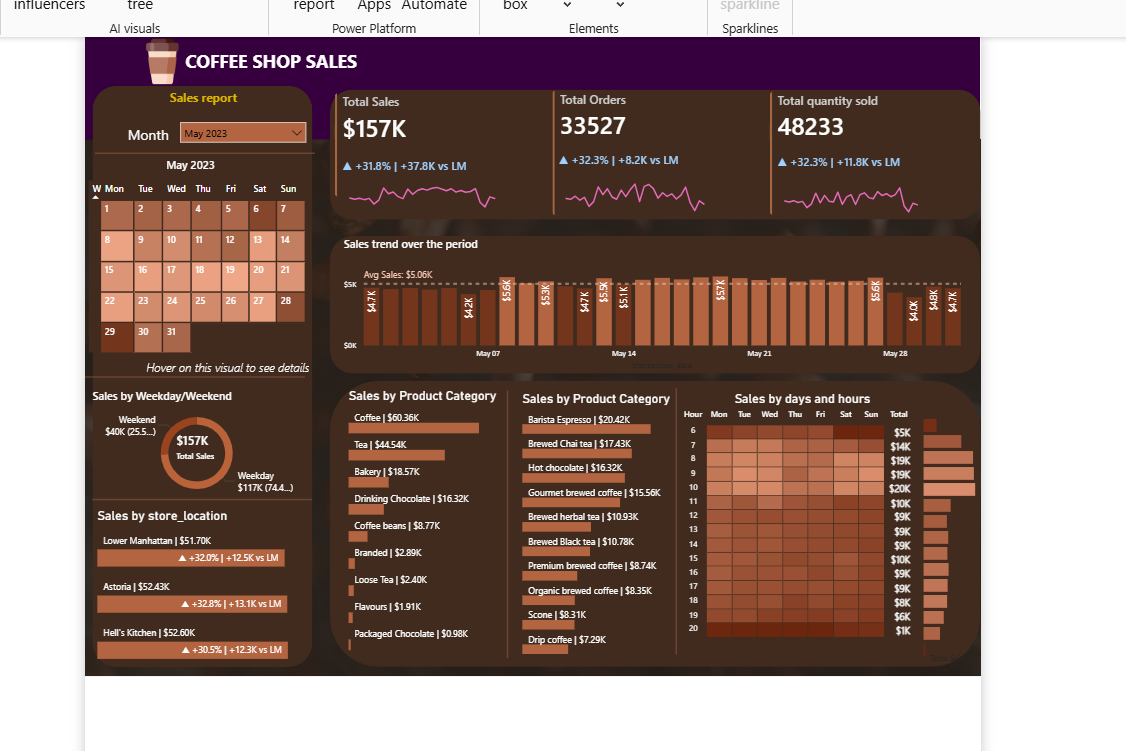

Layout of this report page (visuals, bound fields, positions):
{"tool":"powerbi","page":{"name":"Coffe shop sales","canvas":[1200,1000],"ordinal":0},"visuals":[{"type":"shape","box":[0,0,1199.7,137.4],"z":0},{"type":"shape","box":[328,70.4,872.2,174.7],"z":1000},{"type":"lineChart","fields":{"Category":["Date Table.Date.Variation.Date Hierarchy.Year","Date Table.Date.Variation.Date Hierarchy.Quarter","Date Table.Date.Variation.Date Hierarchy.Month","Date Table.Date.Variation.Date Hierarchy.Day"],"Y":["Coffee Shop Sales.Total Quantity"]},"box":[922.5,157.1,207.8,87.1],"z":1000,"group":"g4"},{"type":"lineChart","fields":{"Category":["Date Table.Date.Variation.Date Hierarchy.Year","Date Table.Date.Variation.Date Hierarchy.Quarter","Date Table.Date.Variation.Date Hierarchy.Month","Date Table.Date.Variation.Date Hierarchy.Day"],"Y":["Coffee Shop Sales.Total Sales"]},"box":[341.2,161.9,224.2,86.2],"z":1000,"group":"g1"},{"type":"shape","box":[10.1,65.3,294.9,779.2],"z":2000},{"type":"lineChart","fields":{"Category":["Date Table.Date.Variation.Date Hierarchy.Year","Date Table.Date.Variation.Date Hierarchy.Quarter","Date Table.Date.Variation.Date Hierarchy.Month","Date Table.Date.Variation.Date Hierarchy.Day"],"Y":["Coffee Shop Sales.Total Orders"]},"box":[629.6,155.9,214.9,85.5],"z":2000,"group":"g2"},{"type":"textbox","box":[77.1,11.7,345.2,53.6],"z":3000},{"type":"group","id":"g1","title":"Group 4","box":[330.5,70.4,235,177.2],"z":4000},{"type":"slicer","fields":{"Values":["Date Table.Month Year"]},"box":[117.3,103.9,189.3,55.3],"z":5000},{"type":"group","id":"g2","title":"Group 1","box":[622.1,67.9,227.5,177.2],"z":6000},{"type":"group","id":"g3","title":"Group 1","box":[912.4,69.1,227.5,175.9],"z":7000},{"type":"group","id":"g4","title":"Group 2","box":[912.4,69.1,227.5,175.9],"z":7001,"group":"g3"},{"type":"pivotTable","fields":{"Rows":["Date Table.Week Number"],"Columns":["Date Table.Day Name"],"Values":["Min(Date Table.Day Number)"]},"box":[0,187.7,305,253],"z":8000},{"type":"cardVisual","fields":{"Data":["Min(Date Table.Month Year)"]},"box":[103.9,139.1,149.1,62],"z":9000},{"type":"cardVisual","fields":{"Data":["Coffee Shop Sales.Total Sales"]},"box":[330.5,70.4,181.9,149.3],"z":10000,"group":"g1"},{"type":"shape","box":[13.4,122.3,294.9,67],"z":10000},{"type":"cardVisual","fields":{"Data":["Coffee Shop Sales.Total orders display"]},"box":[622.1,67.9,227.5,177.2],"z":11000,"group":"g2"},{"type":"shape","box":[0,422.3,294.9,67],"z":11000},{"type":"cardVisual","fields":{"Data":["Coffee Shop Sales.Total quantity sold"]},"box":[912.4,69.1,227.5,175.9],"z":11002,"group":"g4"},{"type":"cardVisual","fields":{"Data":["Coffee Shop Sales.Foot note"]},"box":[77.1,427.3,253,28.5],"z":12000},{"type":"donutChart","title":"Sales by Weekday/Weekend","fields":{"Category":["Date Table.Weekday/Weekend"],"Y":["Coffee Shop Sales.Total Sales"]},"box":[5,470.8,289.9,154.2],"z":13000},{"type":"cardVisual","fields":{"Data":["Coffee Shop Sales.Total Sales"]},"box":[117.3,519.4,124,58.6],"z":14000},{"type":"clusteredBarChart","title":"Sales by store_location","fields":{"Category":["Coffee Shop Sales.store_location"],"Y":["Coffee Shop Sales.Place holder","Coffee Shop Sales.Total Sales"]},"box":[11.9,631.3,294,210.4],"z":15000},{"type":"shape","box":[10.4,586.6,294,67.2],"z":16000},{"type":"shape","box":[328.4,267.2,871.6,185],"z":17000},{"type":"shape","box":[328.4,461.2,871.6,383.6],"z":18000},{"type":"columnChart","title":"Sales trend over the period ","fields":{"Category":["Coffee Shop Sales.transaction_date"],"Y":["Coffee Shop Sales.Total Sales"]},"box":[341.8,267.2,843.3,185.1],"z":19000},{"type":"clusteredBarChart","title":"Sales by Product Category","fields":{"Y":["Coffee Shop Sales.Place holder","Coffee Shop Sales.Total Sales"],"Category":["Coffee Shop Sales.product_category"]},"box":[348.5,470.8,216.2,356.9],"z":20000},{"type":"shape","box":[492.6,474.2,147.5,358.6],"z":21000},{"type":"clusteredBarChart","title":"Sales by Product Category","fields":{"Y":["Coffee Shop Sales.Place holder","Coffee Shop Sales.Total Sales"],"Category":["Coffee Shop Sales.product_type"]},"box":[581.4,474.2,216.2,358.6],"z":22000},{"type":"pivotTable","title":"Sales by days and hours","fields":{"Rows":["Coffee Shop Sales.Hour"],"Columns":["Date Table.Day Name"],"Values":["Coffee Shop Sales.Total Sales"]},"box":[792.6,474.2,338.5,353.6],"z":23000},{"type":"shape","box":[645.1,470.8,294.9,356.9],"z":24000},{"type":"barChart","fields":{"Category":["Coffee Shop Sales.Hour"],"Y":["Coffee Shop Sales.Total Sales"]},"box":[1119.3,499.3,80.4,345.2],"z":25000},{"type":"textbox","box":[36.9,107.2,80.4,50.3],"z":26000},{"type":"textbox","box":[48.6,65.3,216.2,33.5],"z":27000},{"type":"image","box":[73.7,0,60.3,65.3],"z":27001}]}

Visuals, with their boxes on the page's 1200x1000 design canvas (x1, y1, x2, y2). These are canvas units, not pixel positions in the 1126x751 screenshot, which may show the page scaled, cropped or inside an application window:
shape: x1=0, y1=0, x2=1200, y2=137
shape: x1=328, y1=70, x2=1200, y2=245
lineChart - Date Table.Date.Variation.Date Hierarchy.Year x Date Table.Date.Variation.Date Hierarchy.Quarter: x1=922, y1=157, x2=1130, y2=244
lineChart - Date Table.Date.Variation.Date Hierarchy.Year x Date Table.Date.Variation.Date Hierarchy.Quarter: x1=341, y1=162, x2=565, y2=248
shape: x1=10, y1=65, x2=305, y2=844
lineChart - Date Table.Date.Variation.Date Hierarchy.Year x Date Table.Date.Variation.Date Hierarchy.Quarter: x1=630, y1=156, x2=844, y2=241
textbox: x1=77, y1=12, x2=422, y2=65
"Group 4" group: x1=330, y1=70, x2=566, y2=248
slicer - Date Table.Month Year: x1=117, y1=104, x2=307, y2=159
"Group 1" group: x1=622, y1=68, x2=850, y2=245
"Group 1" group: x1=912, y1=69, x2=1140, y2=245
"Group 2" group: x1=912, y1=69, x2=1140, y2=245
pivotTable - Date Table.Week Number x Date Table.Day Name: x1=0, y1=188, x2=305, y2=441
cardVisual - Min(Date Table.Month Year): x1=104, y1=139, x2=253, y2=201
cardVisual - Coffee Shop Sales.Total Sales: x1=330, y1=70, x2=512, y2=220
shape: x1=13, y1=122, x2=308, y2=189
cardVisual - Coffee Shop Sales.Total orders display: x1=622, y1=68, x2=850, y2=245
shape: x1=0, y1=422, x2=295, y2=489
cardVisual - Coffee Shop Sales.Total quantity sold: x1=912, y1=69, x2=1140, y2=245
cardVisual - Coffee Shop Sales.Foot note: x1=77, y1=427, x2=330, y2=456
"Sales by Weekday/Weekend" donutChart: x1=5, y1=471, x2=295, y2=625
cardVisual - Coffee Shop Sales.Total Sales: x1=117, y1=519, x2=241, y2=578
"Sales by store_location" clusteredBarChart: x1=12, y1=631, x2=306, y2=842
shape: x1=10, y1=587, x2=304, y2=654
shape: x1=328, y1=267, x2=1200, y2=452
shape: x1=328, y1=461, x2=1200, y2=845
"Sales trend over the period " columnChart: x1=342, y1=267, x2=1185, y2=452
"Sales by Product Category" clusteredBarChart: x1=348, y1=471, x2=565, y2=828
shape: x1=493, y1=474, x2=640, y2=833
"Sales by Product Category" clusteredBarChart: x1=581, y1=474, x2=798, y2=833
"Sales by days and hours" pivotTable: x1=793, y1=474, x2=1131, y2=828
shape: x1=645, y1=471, x2=940, y2=828
barChart - Coffee Shop Sales.Hour x Coffee Shop Sales.Total Sales: x1=1119, y1=499, x2=1200, y2=844
textbox: x1=37, y1=107, x2=117, y2=158
textbox: x1=49, y1=65, x2=265, y2=99
image: x1=74, y1=0, x2=134, y2=65
